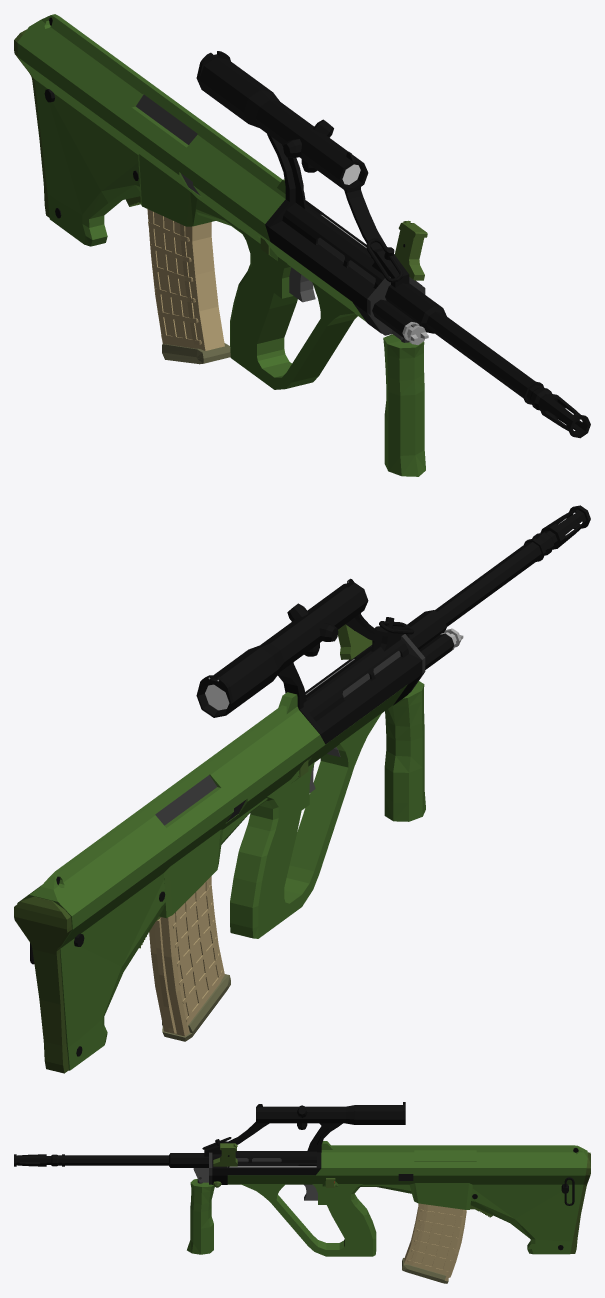
File: aug.glb
The picture shows the model from 3 angles, top to bottom: view 1: azimuth 30°, elevation 25°; view 2: azimuth 150°, elevation 25°; view 3: azimuth 270°, elevation 25°; orthographic projection. The views are drawn at different scales.
Parts seen in each view (by area): view 1: Object_9, Object_11, Object_7, Object_12, Object_13, Object_8, Object_5; view 2: Object_9, Object_11, Object_7, Object_3, Object_12, Object_13, Object_8; view 3: Object_9, Object_11, Object_7, Object_13, Object_3, Object_12, Object_8, Object_5.
Boxes of the visible parts, left/top/right/bottom form: Object_9: left=17, top=14, right=425, bottom=476; Object_11: left=44, top=17, right=590, bottom=438; Object_7: left=147, top=209, right=224, bottom=350; Object_12: left=136, top=94, right=425, bottom=342; Object_13: left=125, top=196, right=427, bottom=280; Object_8: left=162, top=343, right=230, bottom=364; Object_5: left=289, top=267, right=417, bottom=339; Object_9: left=17, top=681, right=425, bottom=1070; Object_11: left=30, top=505, right=590, bottom=1056; Object_7: left=149, top=876, right=224, bottom=1036; Object_3: left=14, top=896, right=71, bottom=1073; Object_12: left=155, top=634, right=425, bottom=825; Object_13: left=139, top=624, right=372, bottom=948; Object_8: left=162, top=974, right=230, bottom=1041; Object_9: left=187, top=1141, right=587, bottom=1256; Object_11: left=14, top=1102, right=578, bottom=1250; Object_7: left=404, top=1203, right=466, bottom=1280; Object_13: left=213, top=1143, right=492, bottom=1217; Object_3: left=570, top=1152, right=590, bottom=1253; Object_12: left=197, top=1152, right=413, bottom=1184; Object_8: left=402, top=1258, right=448, bottom=1283; Object_5: left=193, top=1168, right=317, bottom=1200.
Size of the model in its own units: 0.0678 by 0.3172 by 0.9322.
